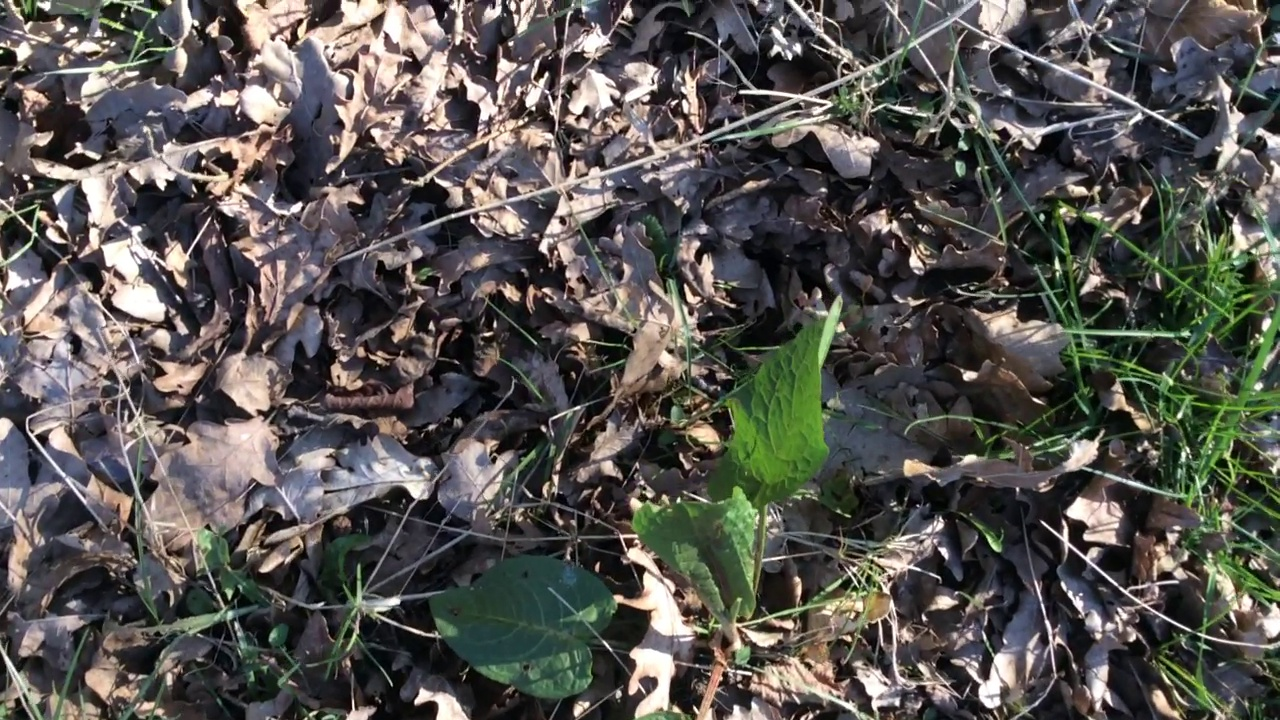rumex: (427, 300, 845, 698)
